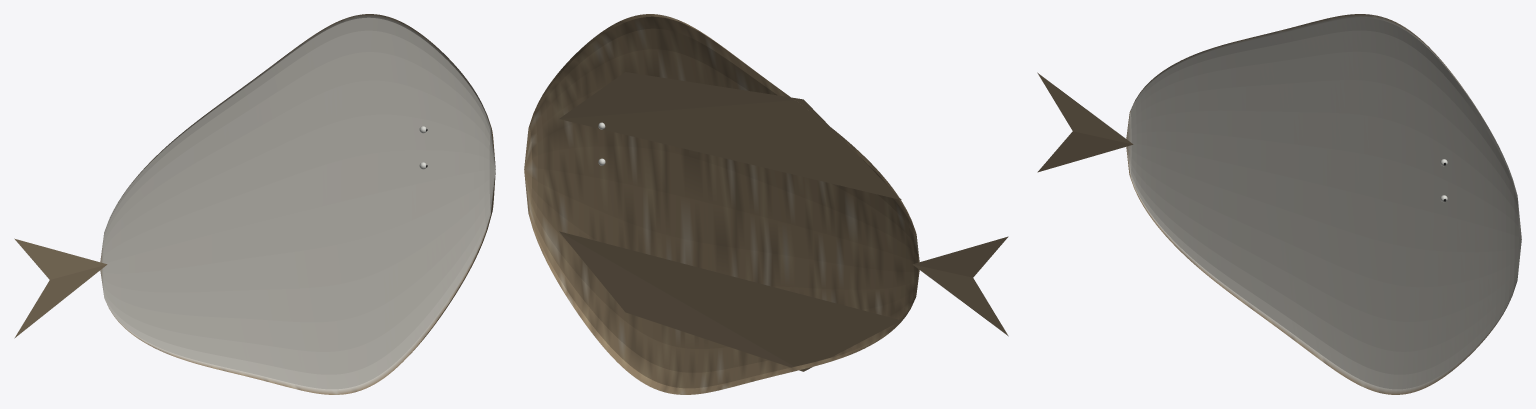
The model's file is summer_flounder_realistic_generated.glb.
The picture shows the model from 3 angles, left to right: view 1: azimuth 30°, elevation 25°; view 2: azimuth 150°, elevation 25°; view 3: azimuth 330°, elevation 25°; orthographic projection.
Parts seen in each view (by area): view 1: world; view 2: world; view 3: world.
Part boxes in pixels (box(x1,y1,x2,y2)): world: box(14, 14, 495, 394); world: box(524, 14, 1008, 394); world: box(1037, 14, 1521, 394).
Bounding box in the file's own units: 3.66 × 2.73 × 0.2318.
